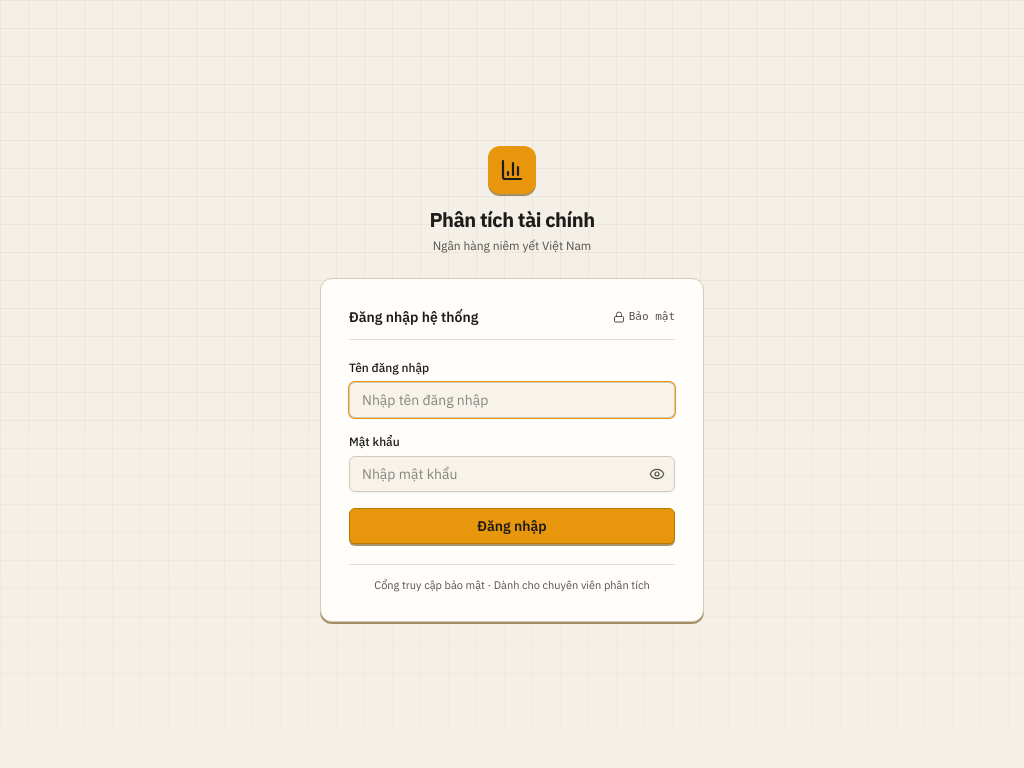
LoginPage › displays rate limit error on 429 too_many_attempts
Step 1. Type "analyst" into the field labelled "Tên đăng nhập" → coordinates (512, 400), box [349,382,675,418]
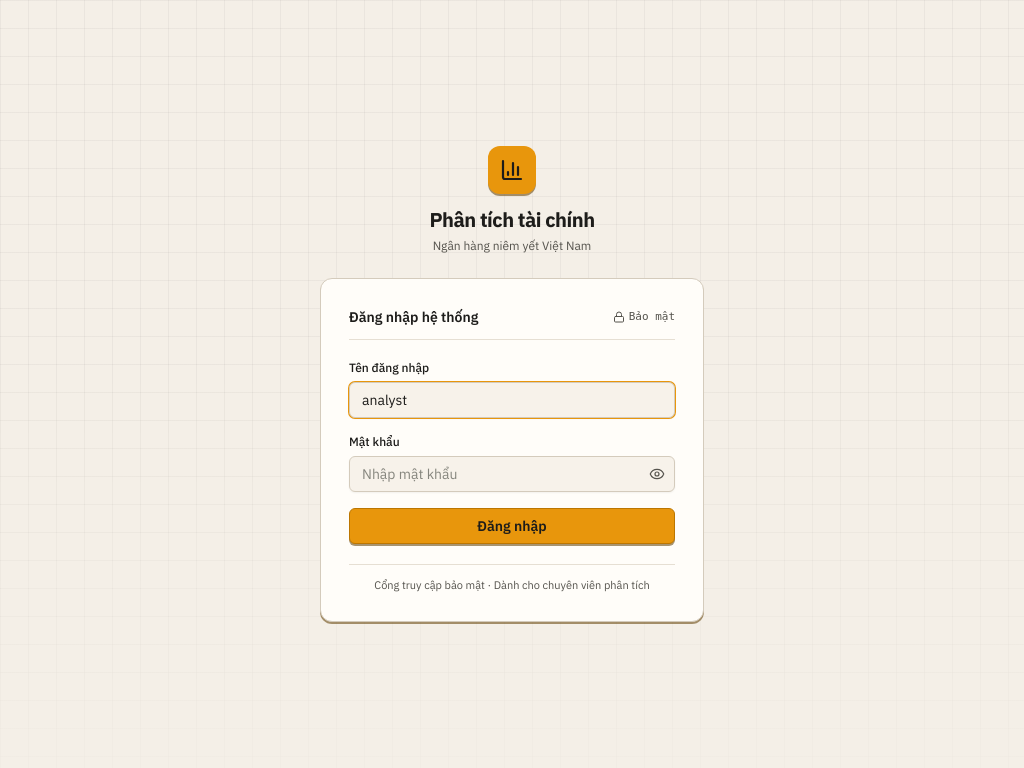
Step 2. Type "any" into the password field labelled "Mật khẩu" → coordinates (512, 474), box [349,456,675,492]
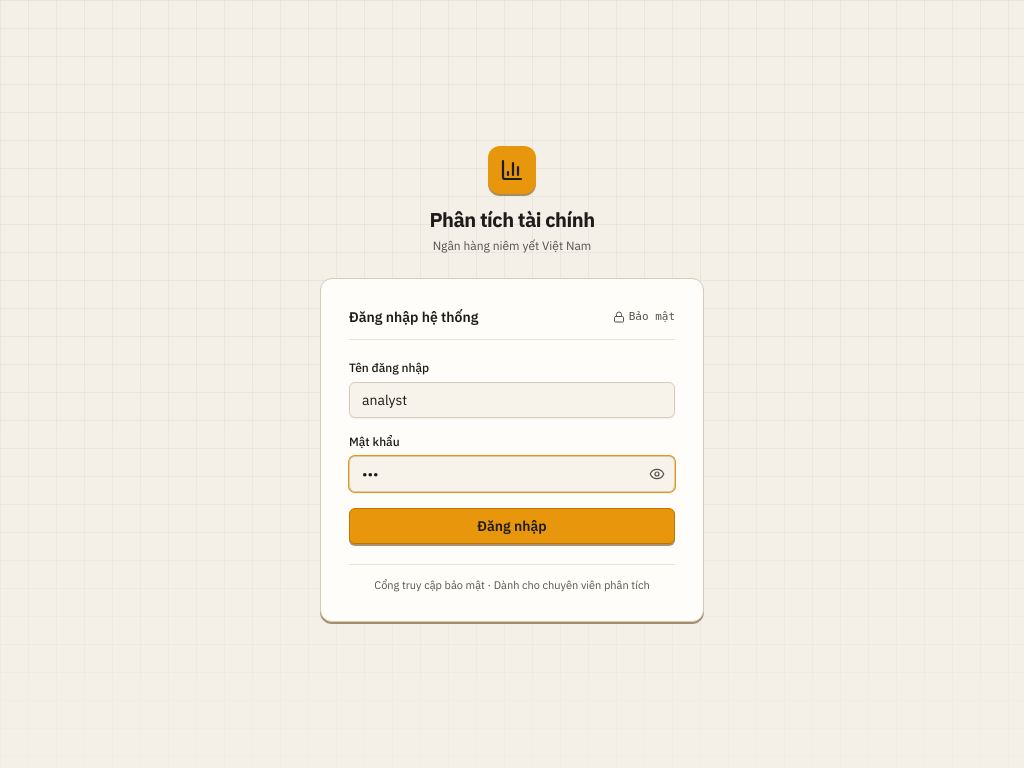
Step 3. Click the button "Đăng nhập" → coordinates (512, 526), box [349,508,675,544]
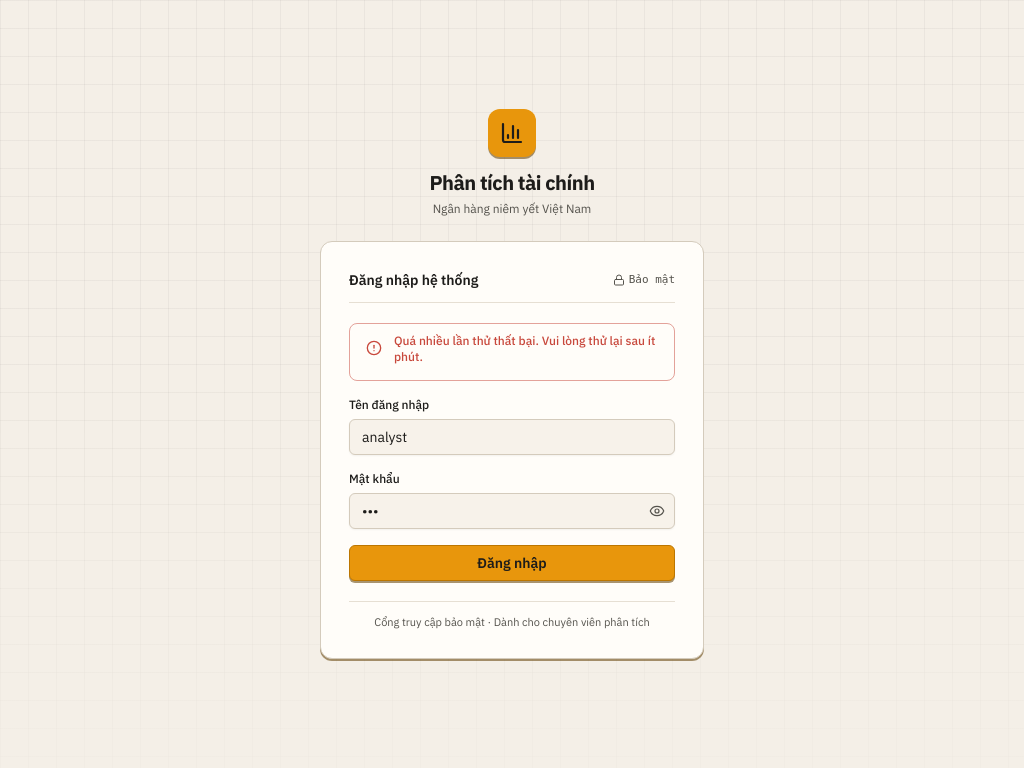
Now the text "Quá nhiều lần thử thất bại. Vui lòng thử lại sau ít phút." is shown, box [366,333,658,365]
